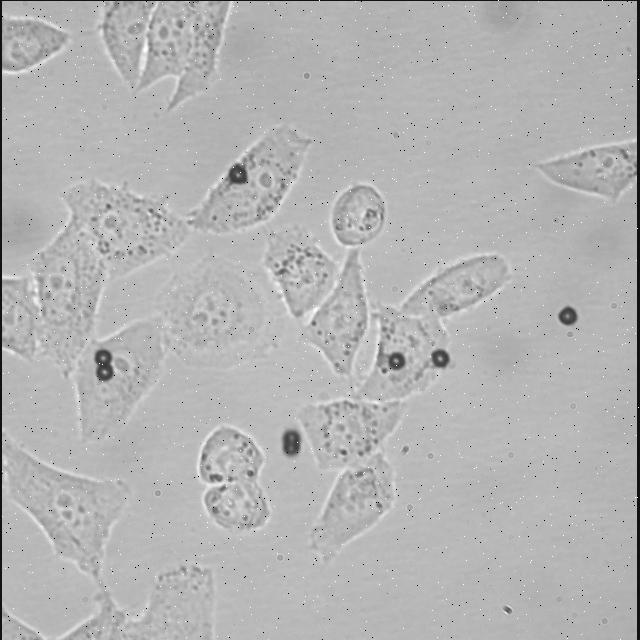microbeads: (93, 359, 117, 383), (428, 346, 454, 368), (386, 351, 408, 373), (556, 306, 580, 326), (93, 346, 113, 364), (232, 168, 248, 185)
